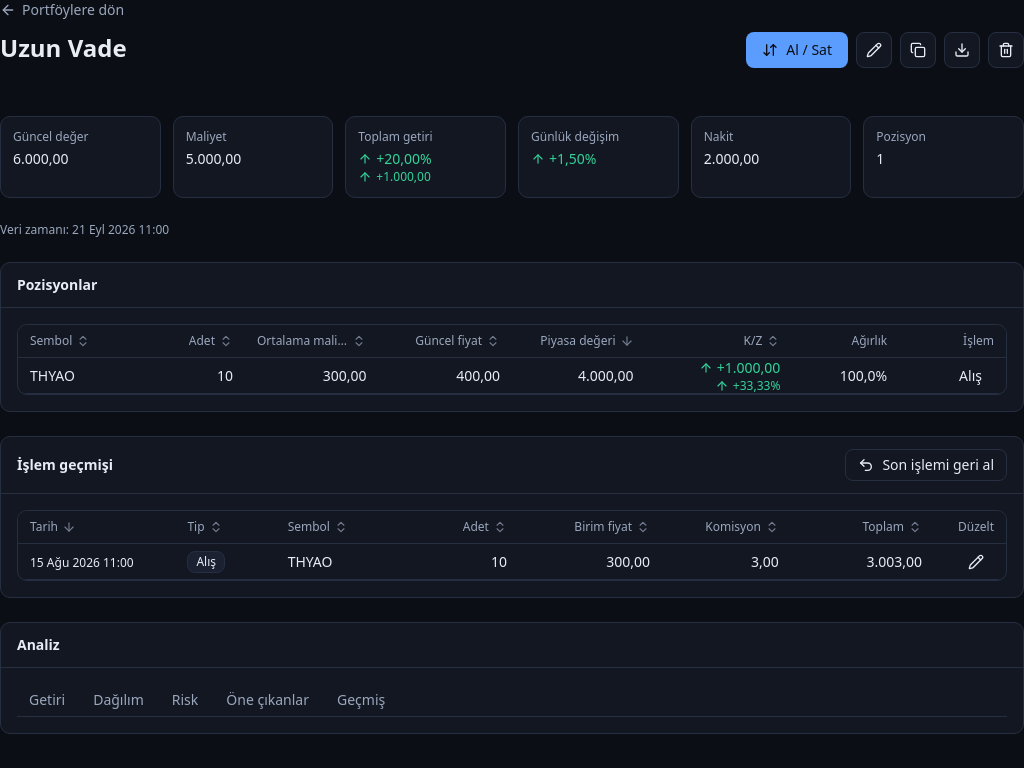
Test case: /portfolio/[id] — RSC detayı › pozisyondan alış açılınca YALNIZ tek fiyat isteği atar
Click the button "Alış".
click(971, 376)  # box [947,360,994,392]
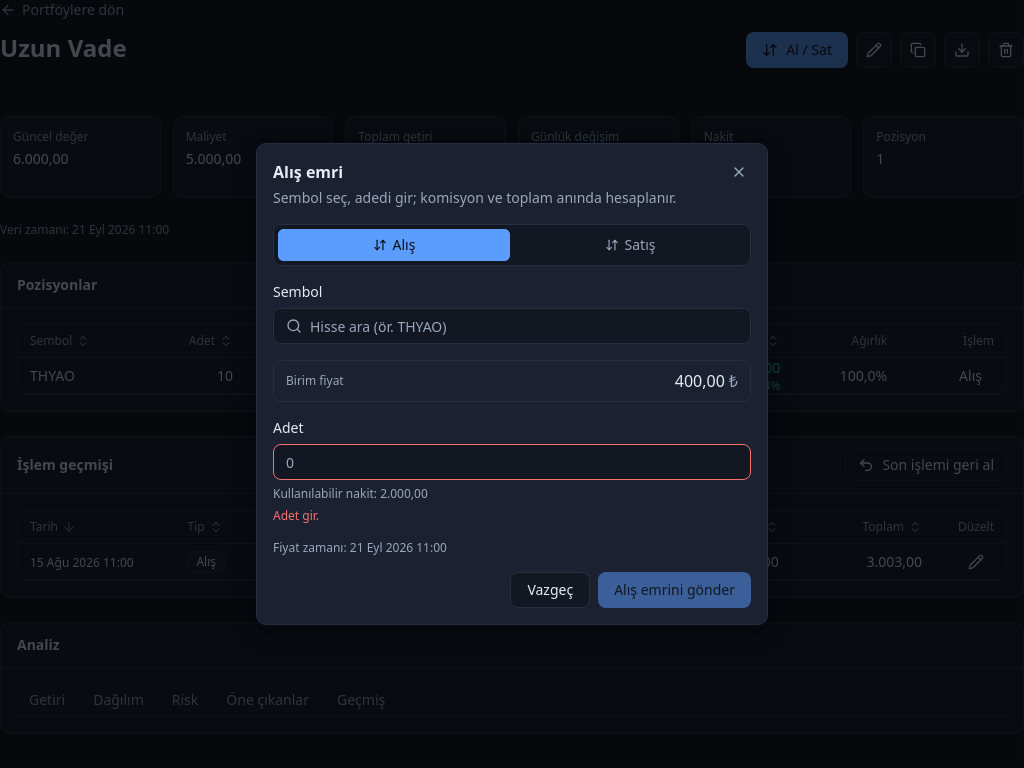
Now the dialog is shown, box [256,143,768,625]
